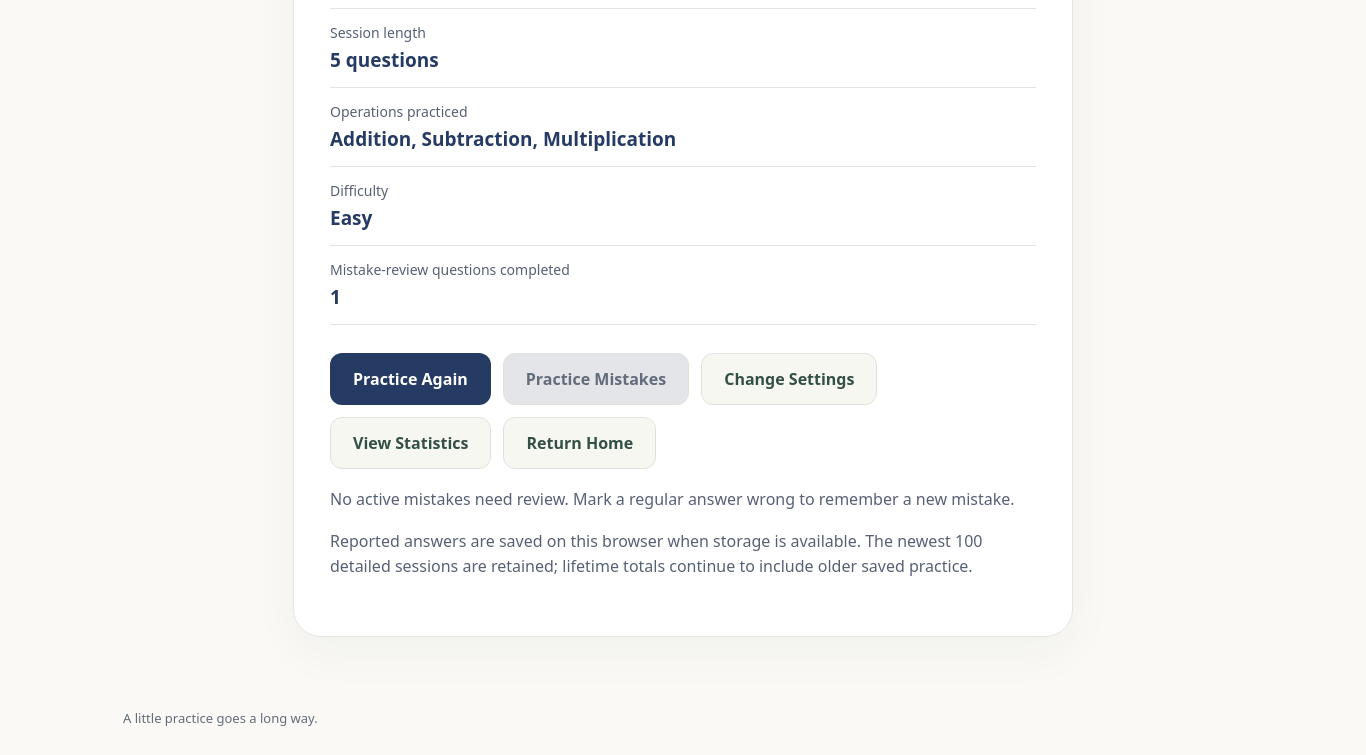
Scenario: session summary page › starts a new session with the same selected configuration and zero totals
(page scrolled)
Step 1. Click the link "Practice Again" → click(410, 379), box left=330, top=353, right=491, bottom=405
(page scrolled)
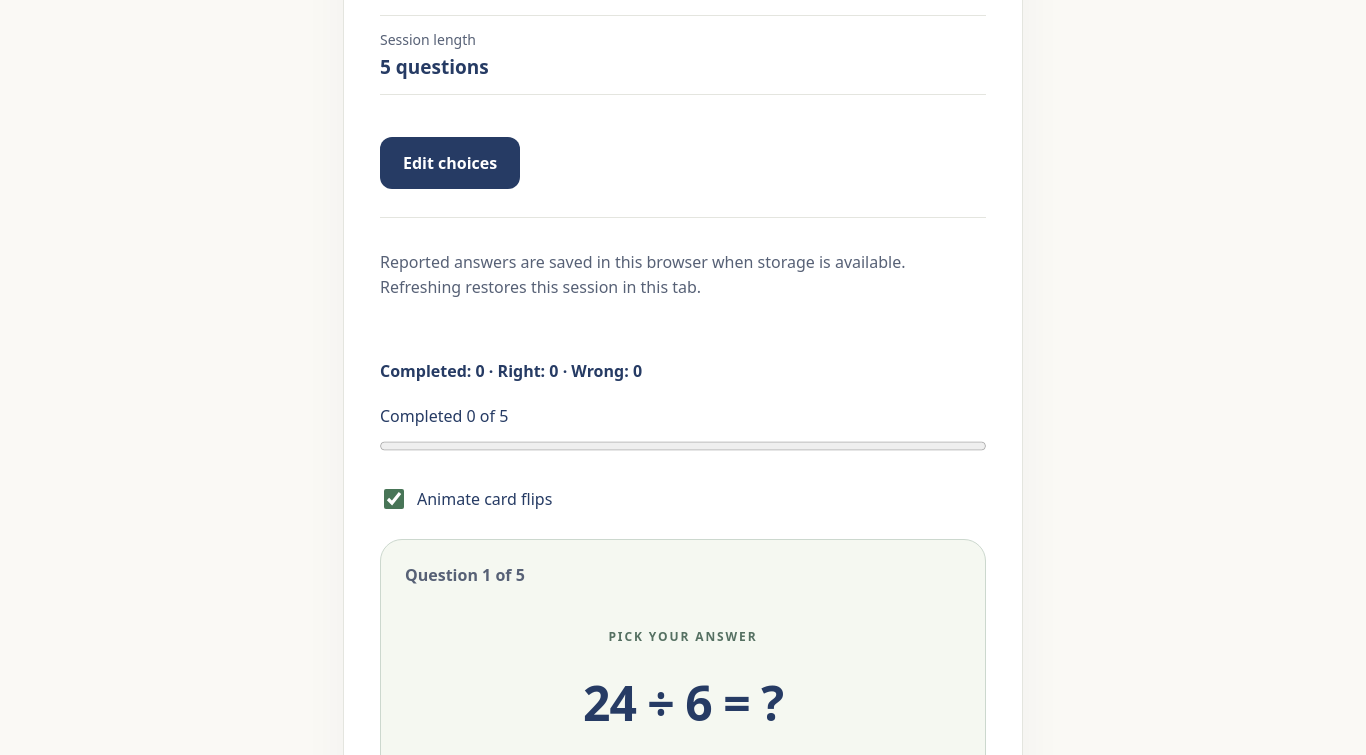
Expected: the text "Question 1 of 5" is shown, left=405, top=564, right=525, bottom=586
Expected: the message named "Session totals" reads "Completed: 0 · Right: 0 · Wrong: 0", left=380, top=360, right=642, bottom=382
